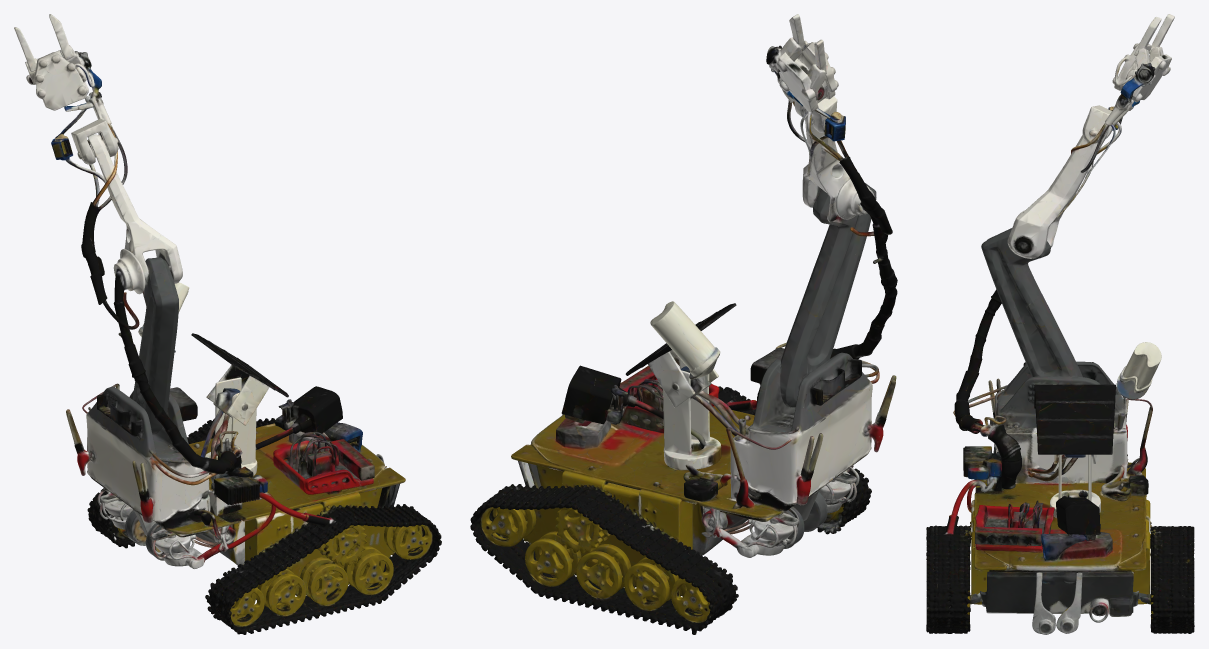
The model's file is Meshy_AI_Rover_Arm_Prototype_0925175105_texture_ultra.glb.
The picture shows the model from 3 angles, left to right: view 1: azimuth 30°, elevation 25°; view 2: azimuth 150°, elevation 25°; view 3: azimuth 270°, elevation 25°; orthographic projection. The views are drawn at different scales.
Size of the model in its own units: 1.12 by 1.9 by 0.8879.
Materials: 1 (1 with a texture image).
